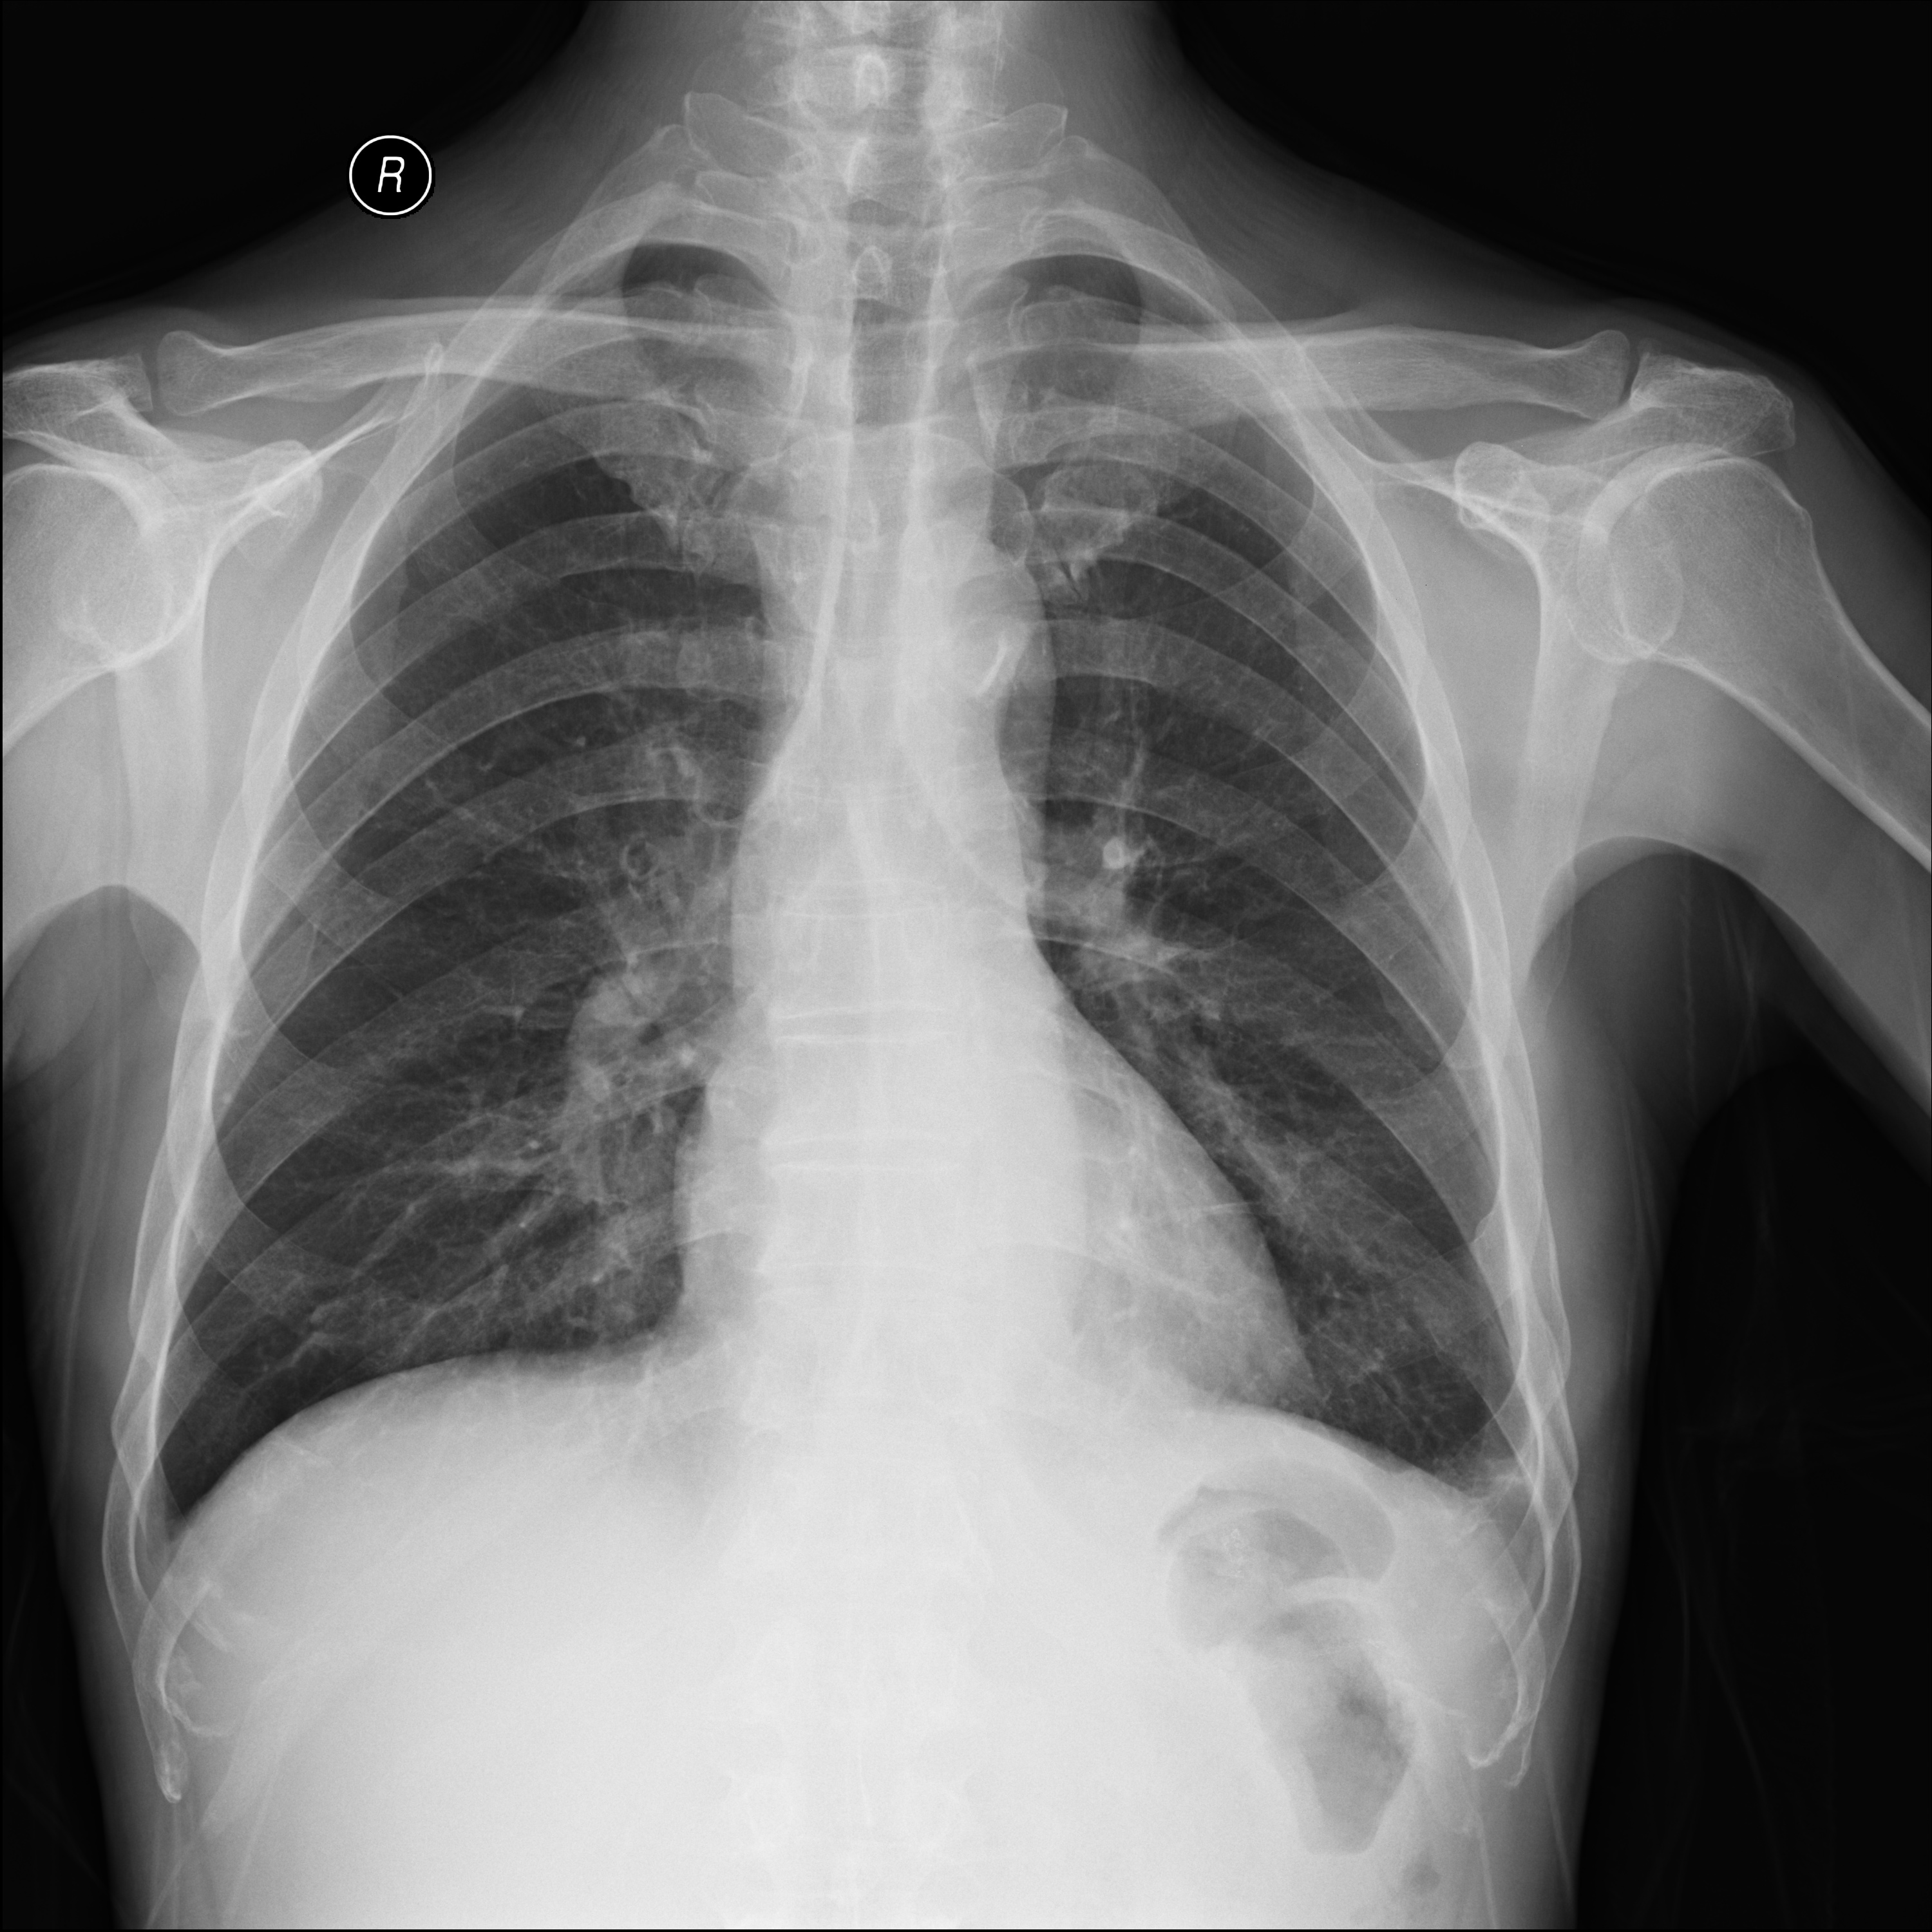aorta calcification: (853, 515, 1086, 745)
fractura: (1479, 1253, 1605, 1376)
nodule: (203, 1074, 251, 1125)
pleura: (1426, 1453, 1591, 1569)
